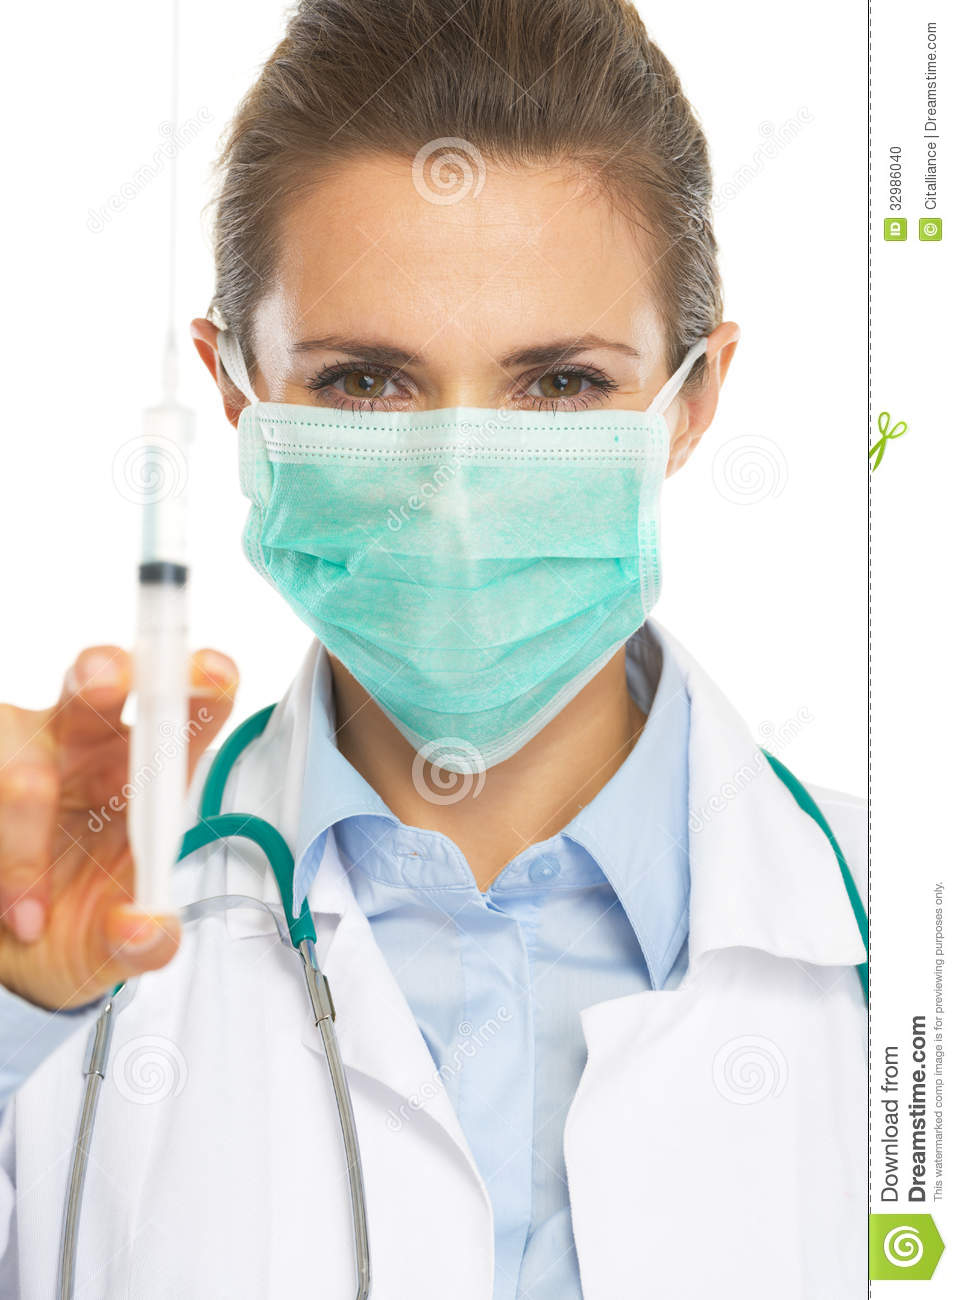mask: (235, 395, 660, 795)
